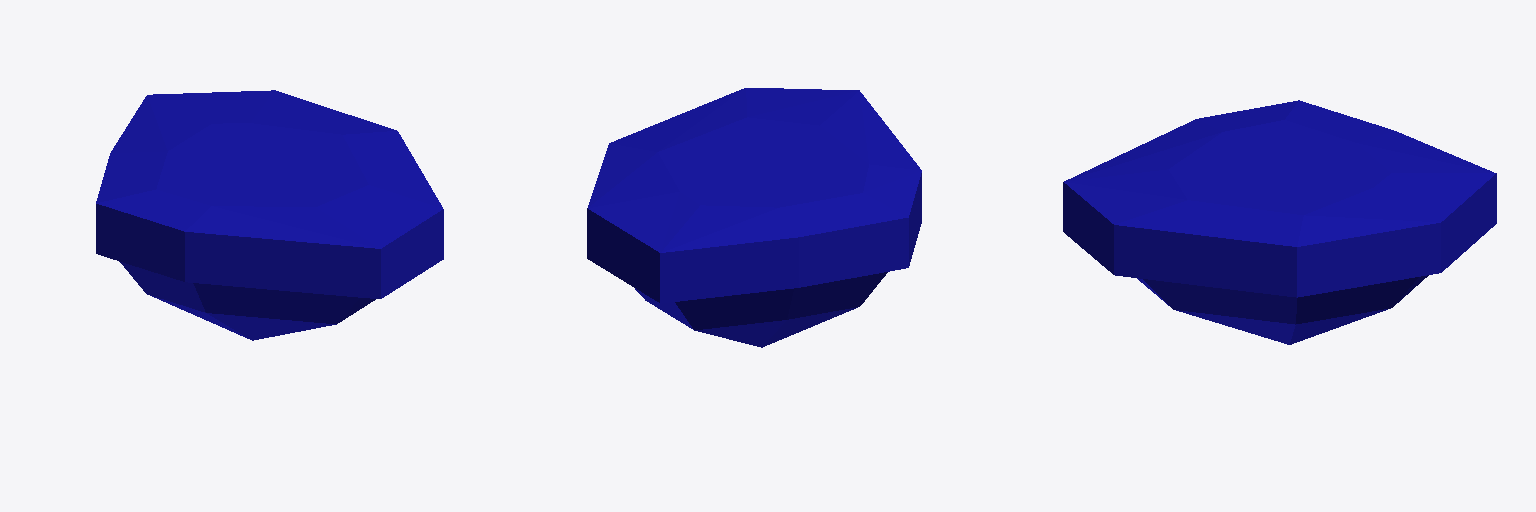
The model's file is land3.obj.
The picture shows the model from 3 angles: view 1: azimuth 30°, elevation 25°; view 2: azimuth 150°, elevation 25°; view 3: azimuth 270°, elevation 25°; orthographic projection.
Parts seen in each view (by area): view 1: g3, land3; view 2: g3, land3; view 3: g3, land3.
Part boxes in pixels (bbox=[...]): g3: bbox=[96, 90, 443, 298]; land3: bbox=[119, 261, 375, 340]; g3: bbox=[587, 88, 921, 303]; land3: bbox=[635, 272, 887, 347]; g3: bbox=[1063, 100, 1496, 297]; land3: bbox=[1137, 275, 1428, 344].
Size of the model in its own units: 56.29 by 31.67 by 70.15.